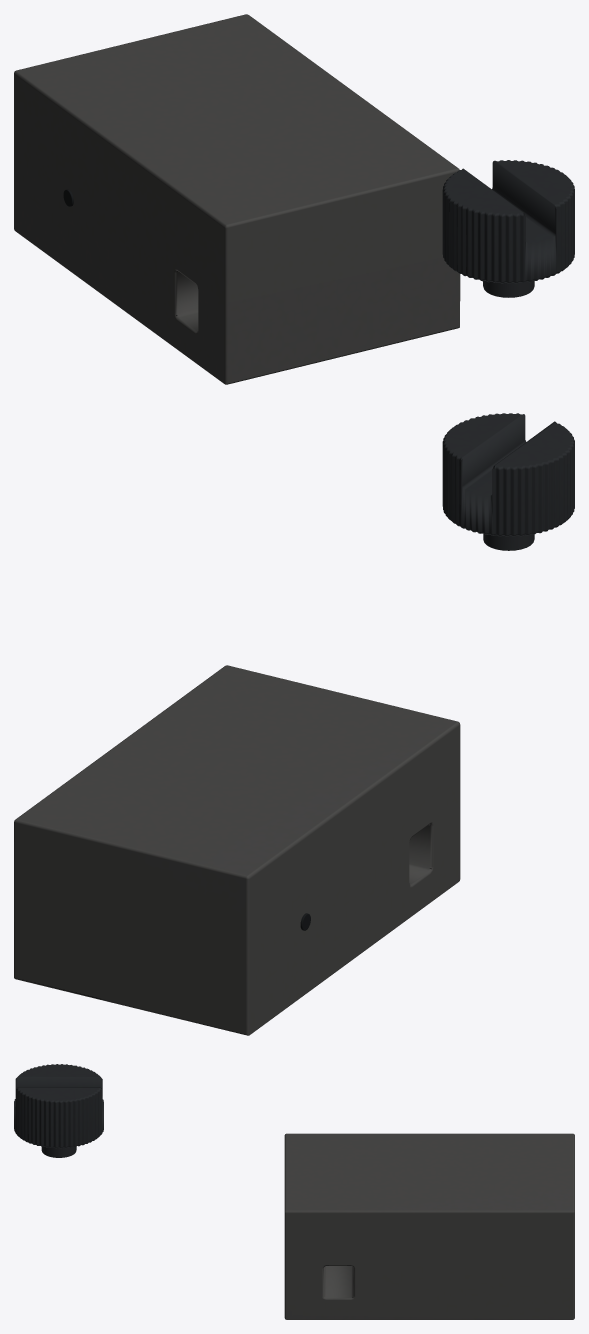
The model's file is SM_MAC10_Pump.fbx.
3 renders of one model, top to bottom at view 1: azimuth 30°, elevation 25°; view 2: azimuth 150°, elevation 25°; view 3: azimuth 270°, elevation 25°, orthographic. The views are drawn at different scales.
Visible parts, largest first — view 1: SM_MAC10_Pump; view 2: SM_MAC10_Pump; view 3: SM_MAC10_Pump.
Part boxes in pixels (<box>): SM_MAC10_Pump: <box>14,14,574,384</box>; SM_MAC10_Pump: <box>14,413,574,1035</box>; SM_MAC10_Pump: <box>14,1064,574,1319</box>.
Size of the model in its own units: 3.73 by 11.2 by 4.38.
